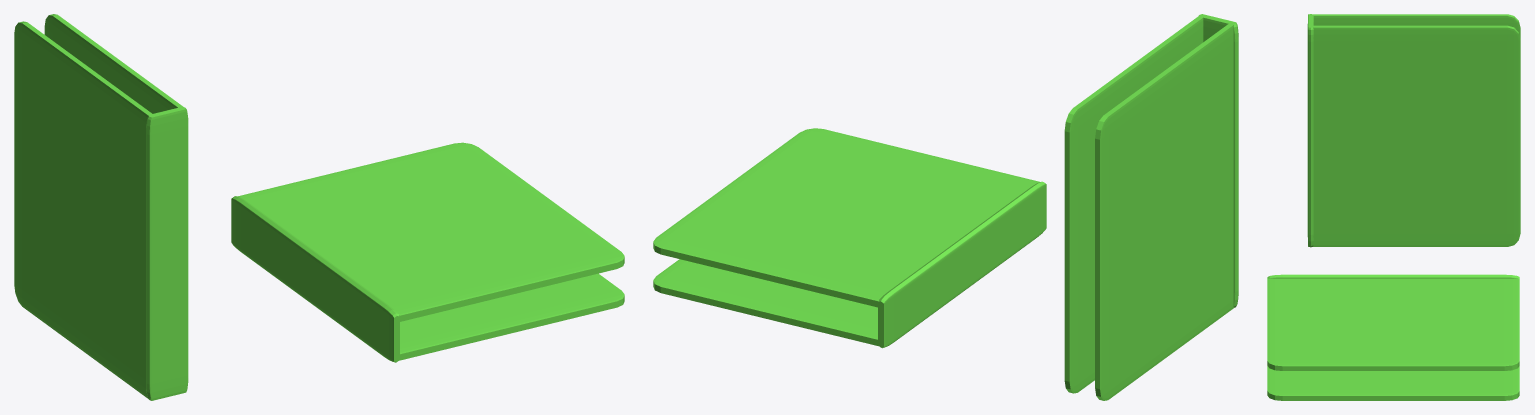
Rendered from greenbooks.glb.
3 renders of one model, left to right at view 1: azimuth 30°, elevation 25°; view 2: azimuth 150°, elevation 25°; view 3: azimuth 270°, elevation 25°, orthographic. The views are drawn at different scales.
Visible parts, largest first — view 1: Cube.010, Cube.009; view 2: Cube.010, Cube.009; view 3: Cube.009, Cube.010.
Boxes of the visible parts, x1=… form: Cube.010: x1=231, y1=142, x2=624, y2=362; Cube.009: x1=14, y1=14, x2=188, y2=400; Cube.010: x1=653, y1=128, x2=1046, y2=348; Cube.009: x1=1064, y1=14, x2=1238, y2=400; Cube.009: x1=1307, y1=14, x2=1520, y2=247; Cube.010: x1=1267, y1=274, x2=1519, y2=400.
Bounding box in the file's own units: 0.9844 × 0.5834 × 0.6095.
